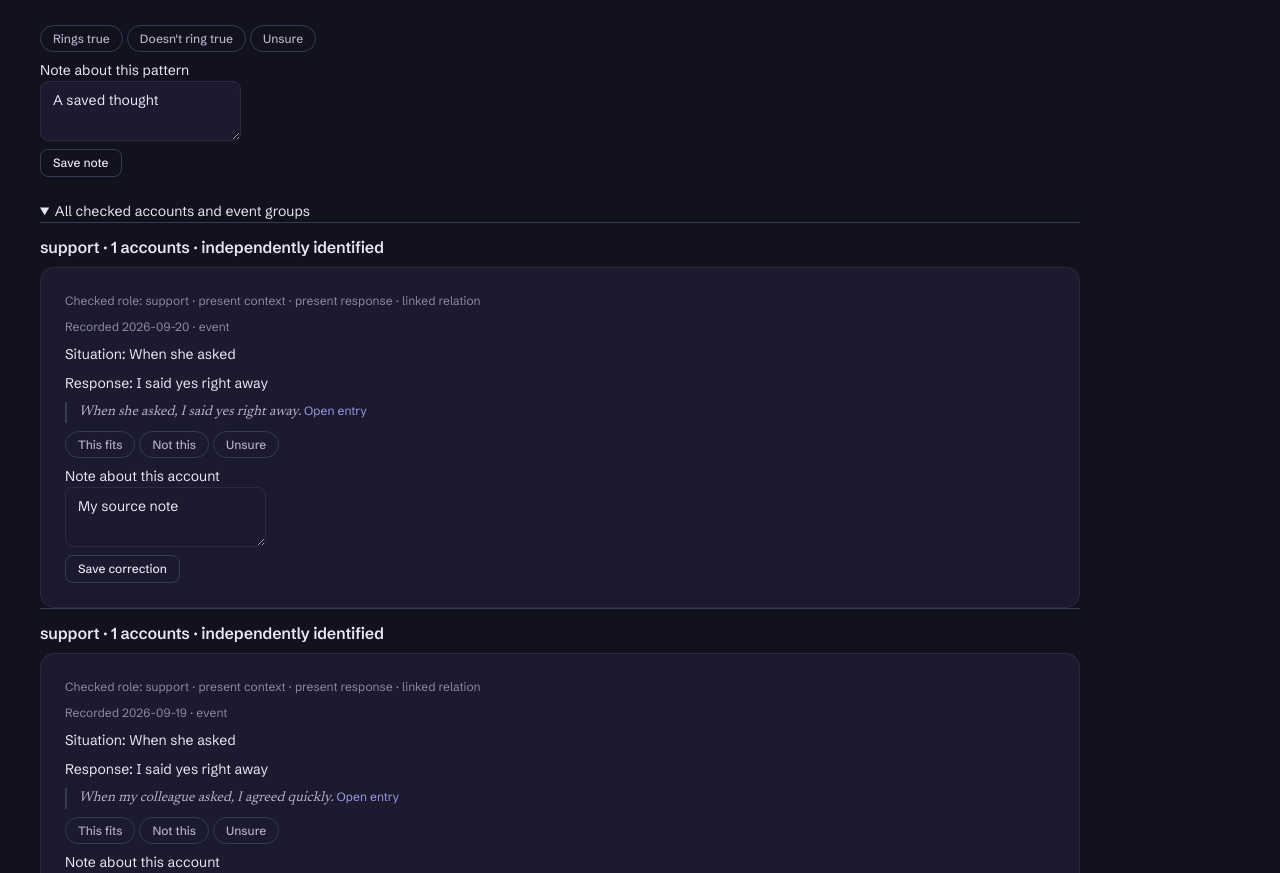
Test case: reports rechecking instead of a generic load error while a correction invalidates the view
(page scrolled)
Click the radio button labelled "Not this" below "When she asked, I said yes right away.". click: x=174, y=444
box: [140, 431, 209, 458]
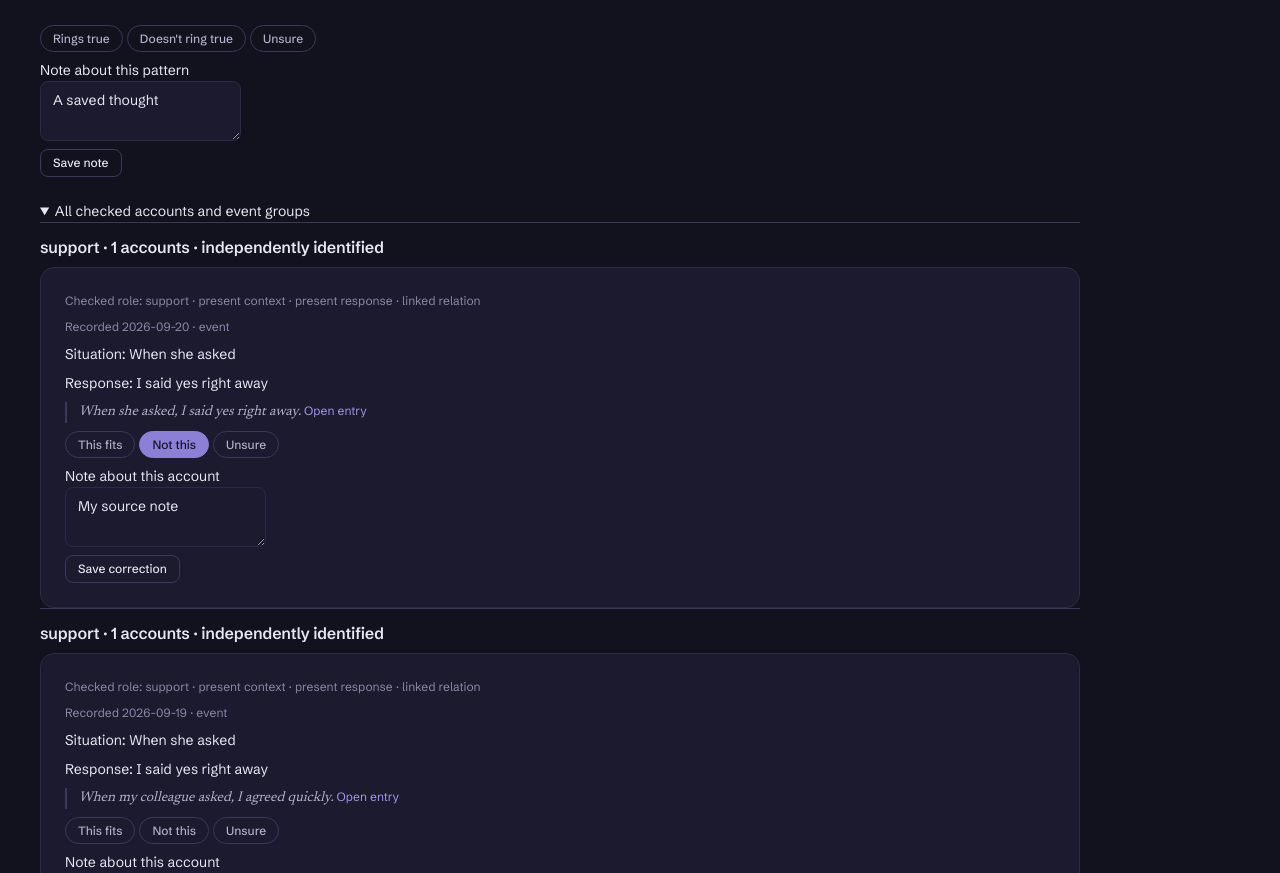
Click the button "Save correction". click: x=122, y=569
box: [65, 555, 180, 583]
(page scrolled)
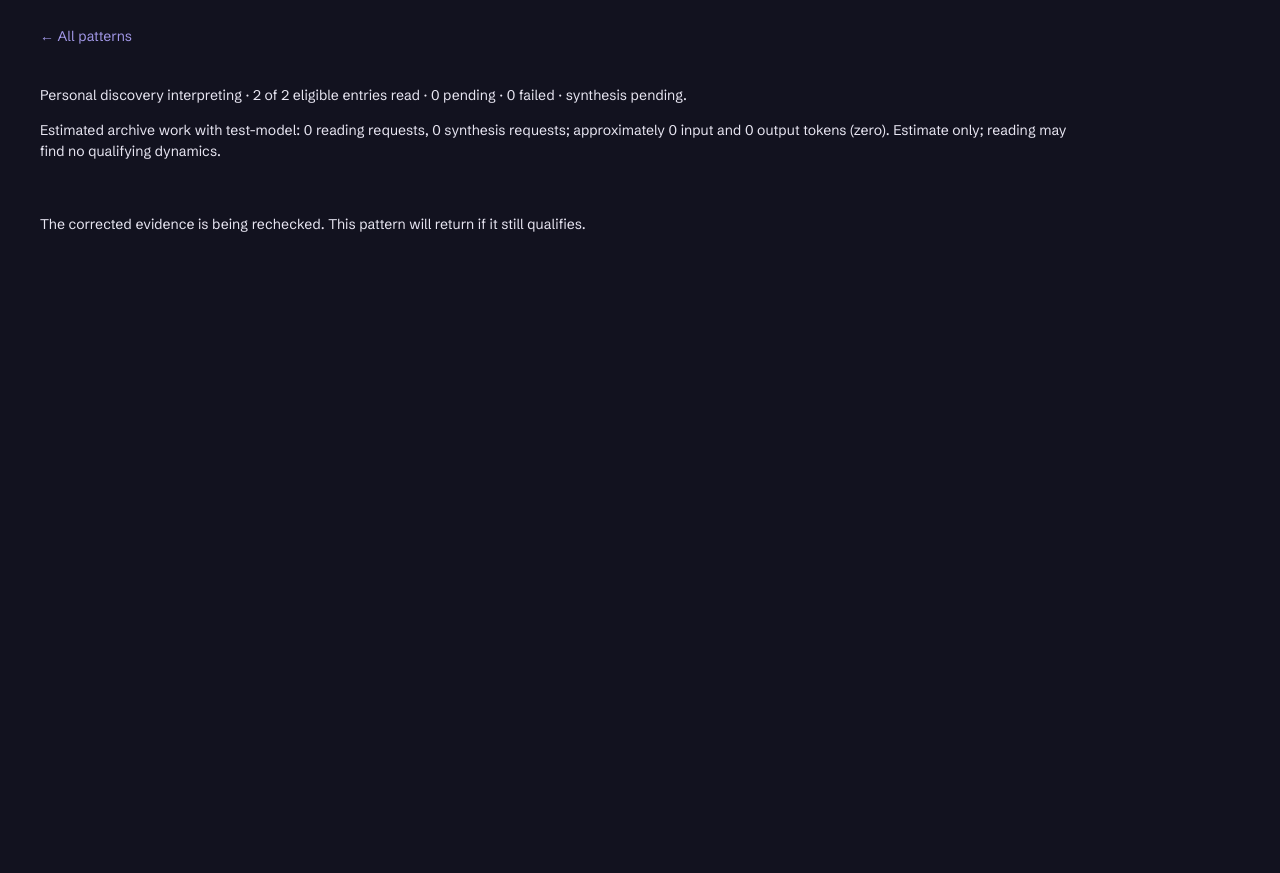
Now the text "corrected evidence is being rechecked" is shown, box [40, 215, 586, 233]
